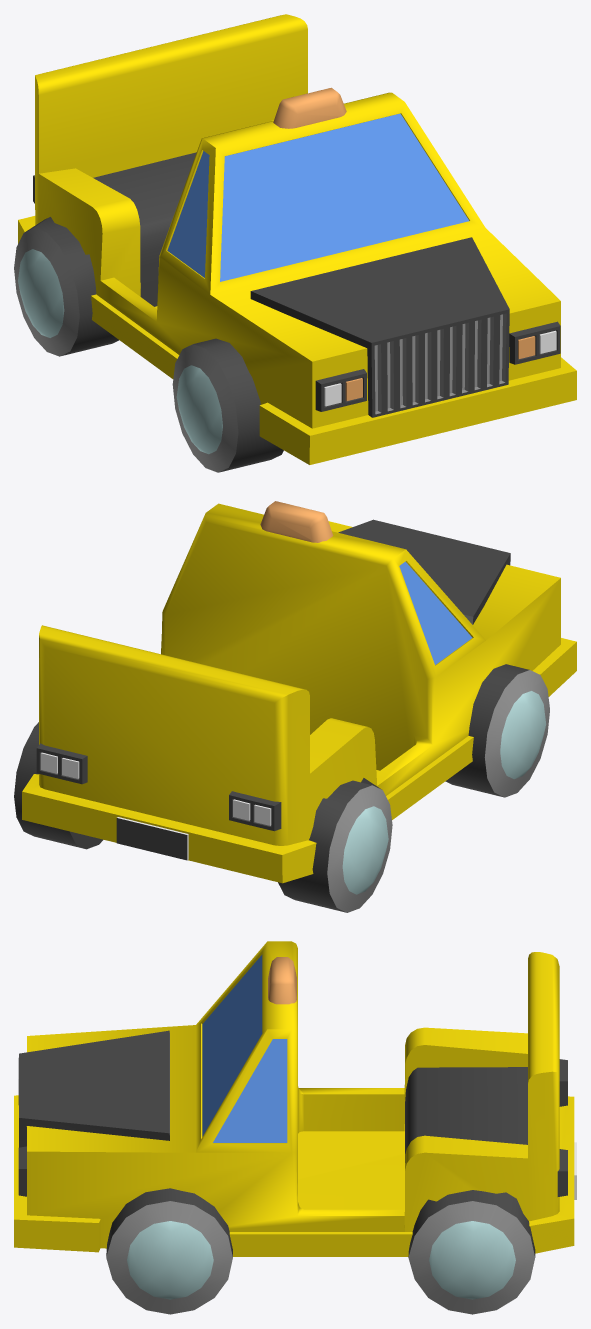
File: Cart_2.fbx
3 views of the same model, one above another, from view 1: azimuth 30°, elevation 25°; view 2: azimuth 150°, elevation 25°; view 3: azimuth 270°, elevation 25° (orthographic). The views are drawn at different scales.
Visible parts, largest first — view 1: Cube; view 2: Cube; view 3: Cube.
Part boxes in pixels (x1=…): Cube: x1=14, y1=14, x2=576, y2=472; Cube: x1=14, y1=501, x2=576, y2=912; Cube: x1=14, y1=941, x2=576, y2=1314.
Size of the model in its own units: 204 by 165 by 306.
